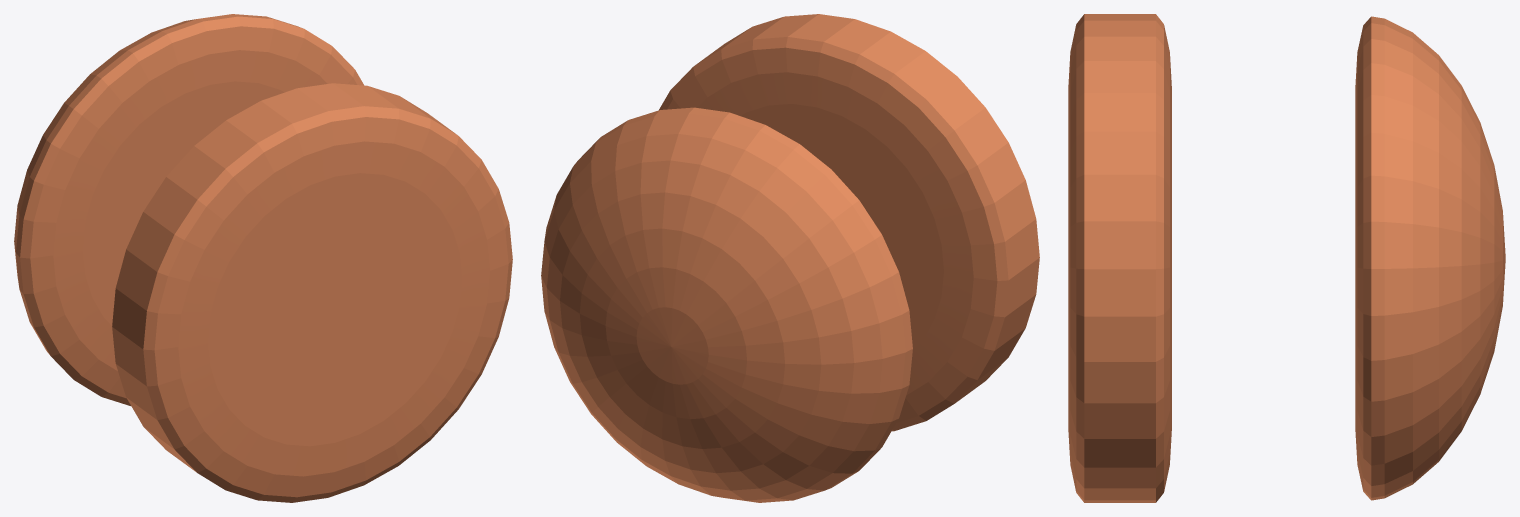
File: bread_in_toaster.fbx
3 views of the same model, side by side, from view 1: azimuth 30°, elevation 25°; view 2: azimuth 150°, elevation 25°; view 3: azimuth 270°, elevation 25° (orthographic). The views are drawn at different scales.
Visible parts, largest first — view 1: Cylinder.001; view 2: Cylinder.001; view 3: Cylinder.001.
Boxes of the visible parts, box(x1,y1,x2,y2) form: Cylinder.001: box(14, 14, 512, 502); Cylinder.001: box(541, 14, 1039, 502); Cylinder.001: box(1068, 14, 1505, 502).
Bounding box in the file's own units: 2711 × 2711 × 2424.
